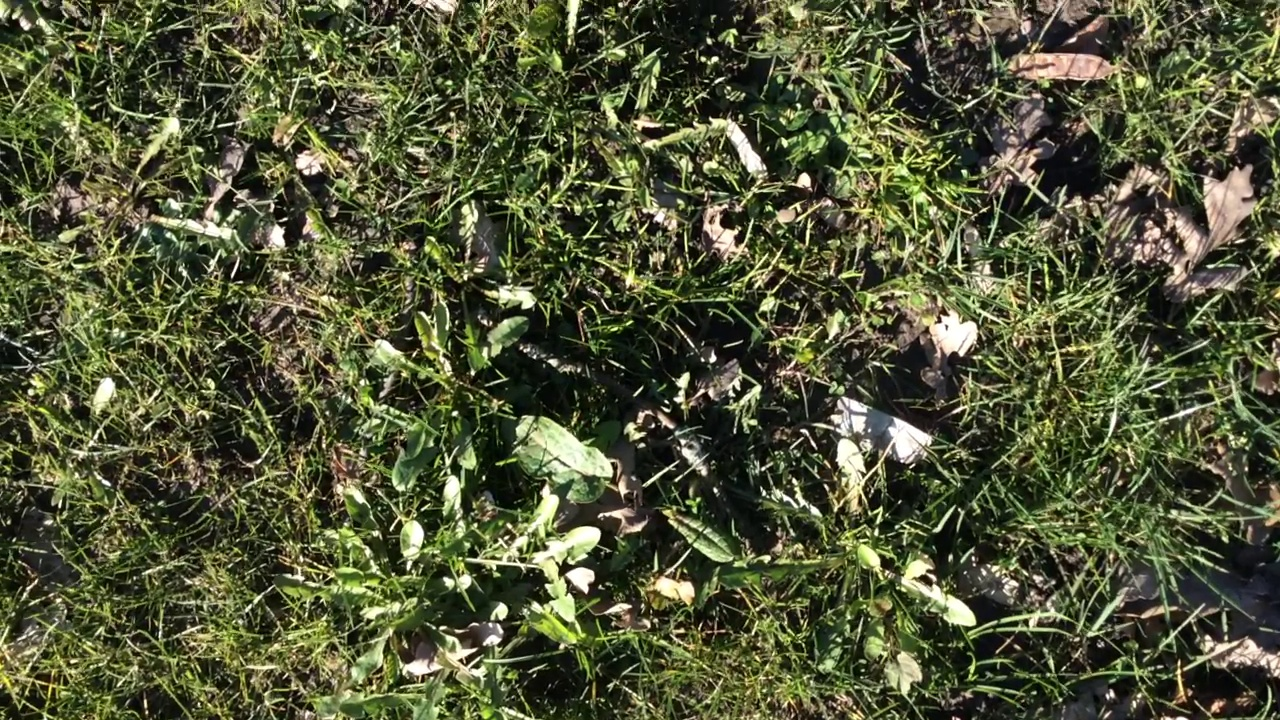rumex: (505, 420, 613, 502), (661, 511, 734, 562)
